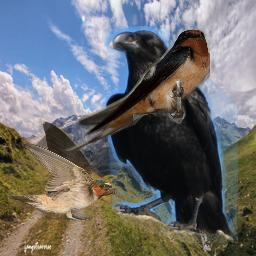Crow: (102, 26, 238, 243)
Swallow: (61, 29, 210, 151), (6, 121, 116, 222)
